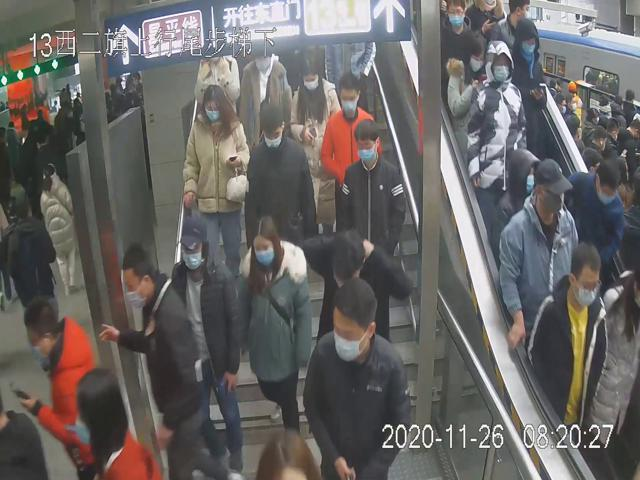person: (97, 240, 225, 480), (303, 275, 411, 480), (170, 214, 245, 480), (526, 240, 610, 452), (237, 215, 311, 440), (500, 154, 579, 350), (182, 82, 250, 271), (301, 224, 409, 342), (246, 100, 316, 253), (466, 40, 528, 206), (338, 120, 406, 262), (290, 51, 342, 216), (321, 73, 379, 220)
